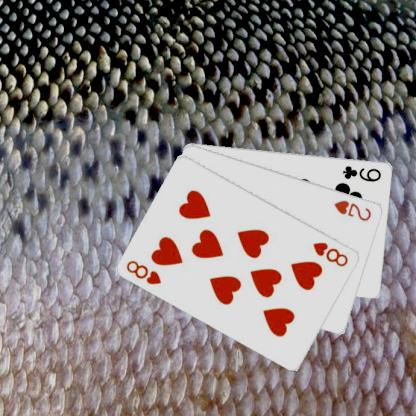2H: (332, 197, 373, 223)
8H: (310, 240, 350, 269), (124, 257, 164, 286)
9C: (340, 162, 383, 183)
